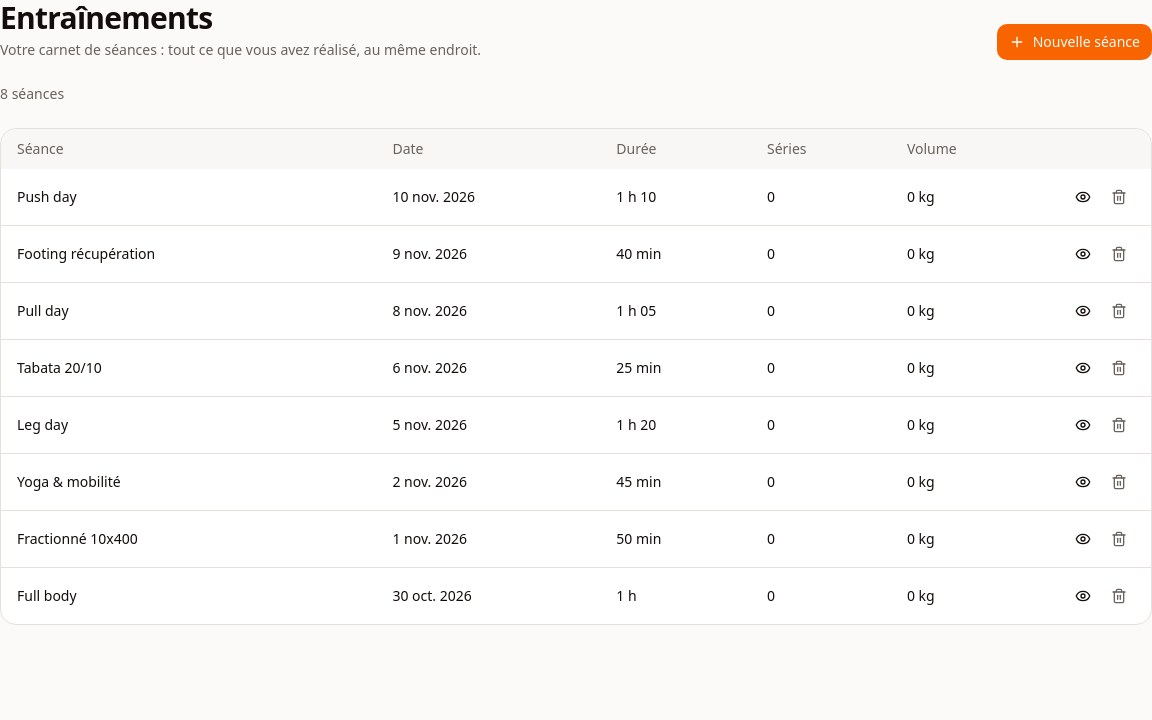
Test: TrainingPage › crée une séance et l’ajoute à la liste
Expected: the text "Push day" is shown, [17,187,77,206]
Click the button "Nouvelle séance" at (1074, 42), box [997,24,1151,60]
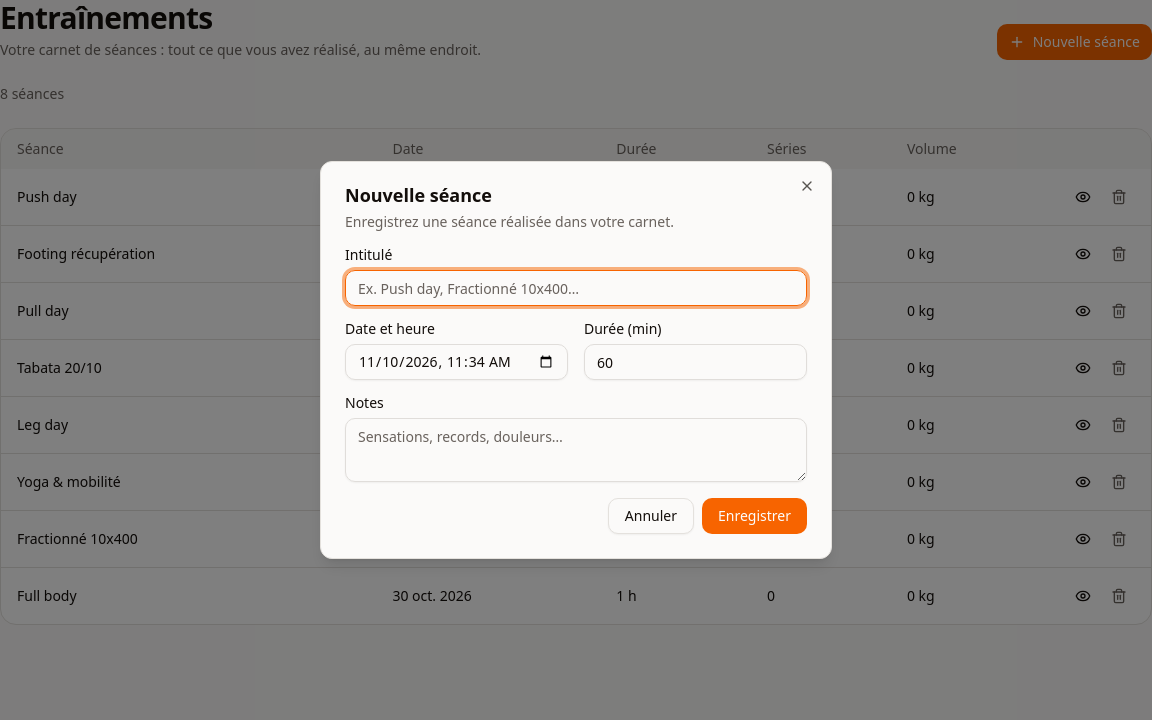
Type "Sortie vélo" into the field labelled "Intitulé" at (576, 288), box [345,270,807,306]
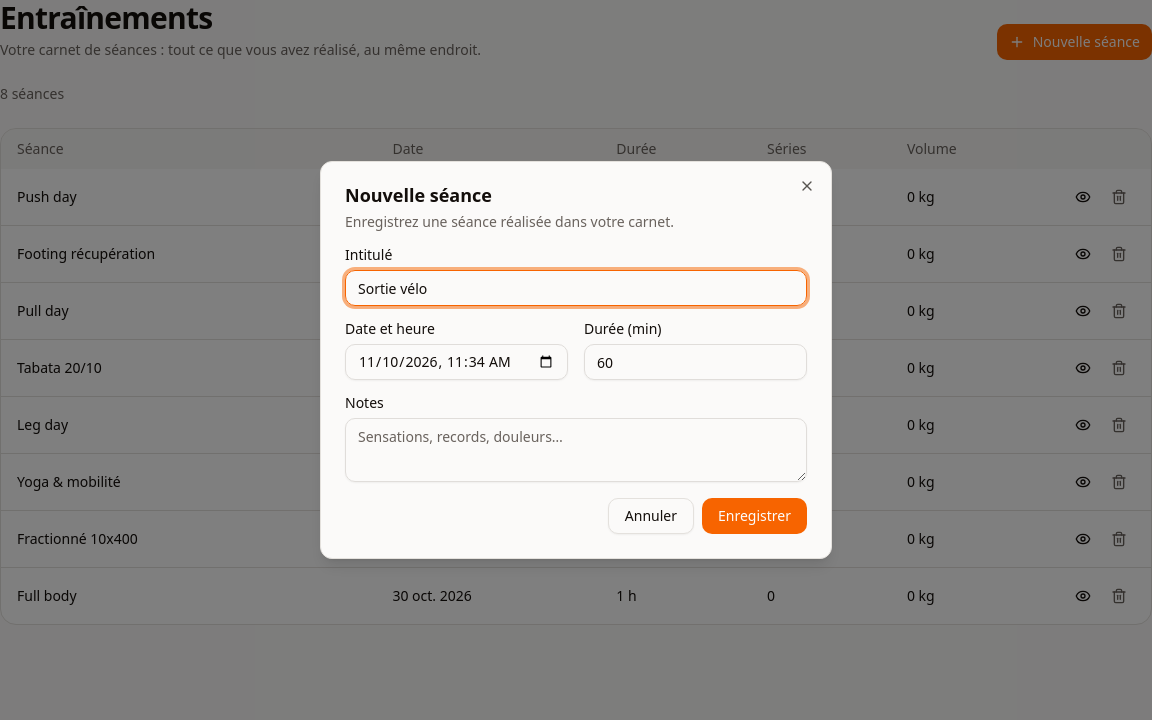
Click the button "Enregistrer" at (754, 516), box [702,498,807,534]
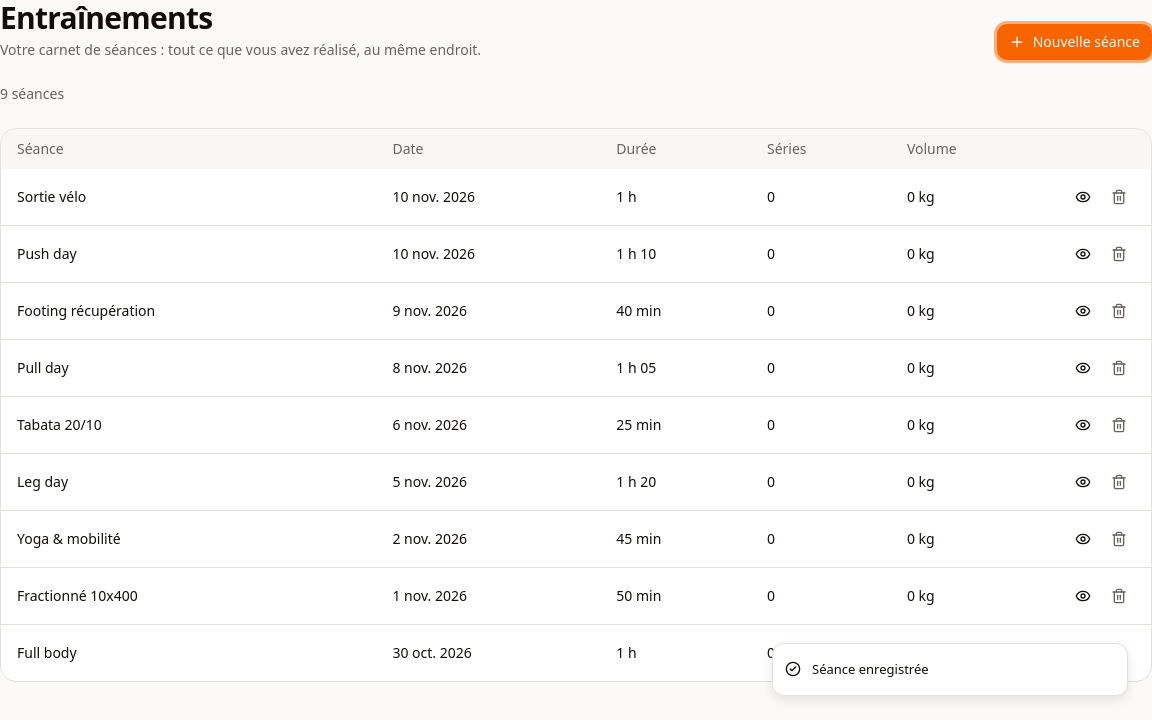
Now the text "Sortie vélo" is shown, box [17,187,86,206]
Now the text "Séance enregistrée" is shown, box [812,660,929,679]
Now the dialog is gone
